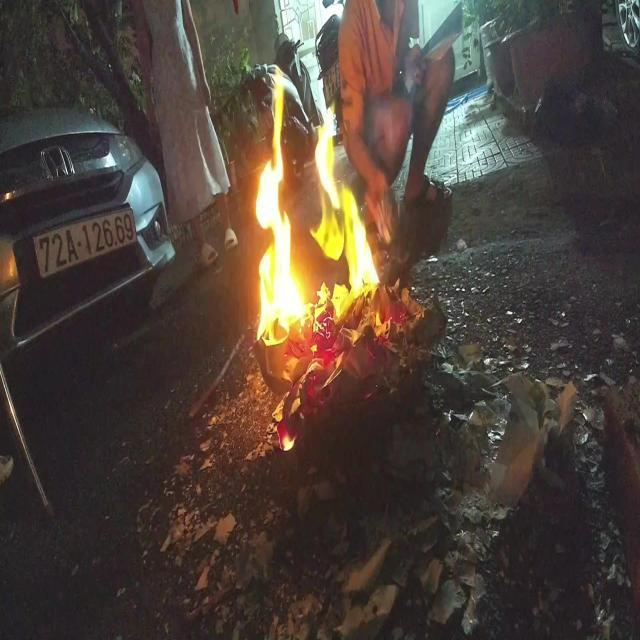Fire: (256, 71, 390, 377)
